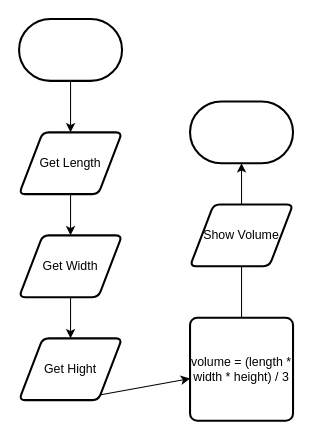
This 311x447 diagram has some shape labels left out. The shapes that lost their labels are listed below. From the top down, each one's centre as x and y in pixels, then its label:
the point at 70,49: Start
the point at 241,132: Stop
